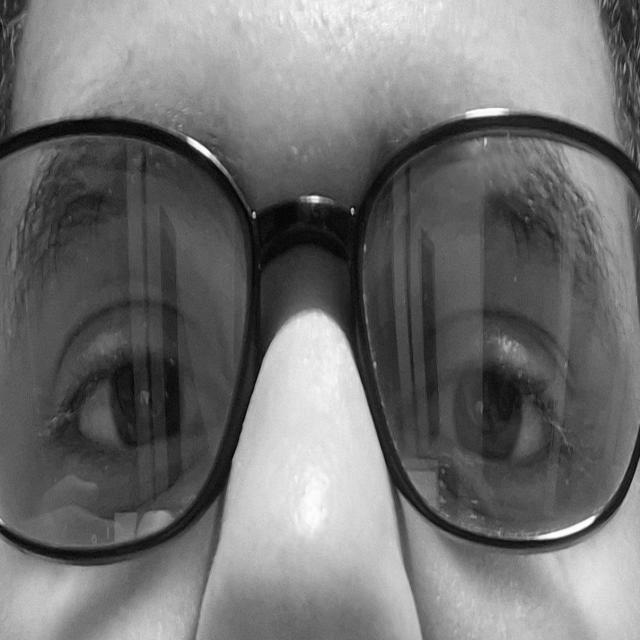real: (18, 88, 622, 598)
